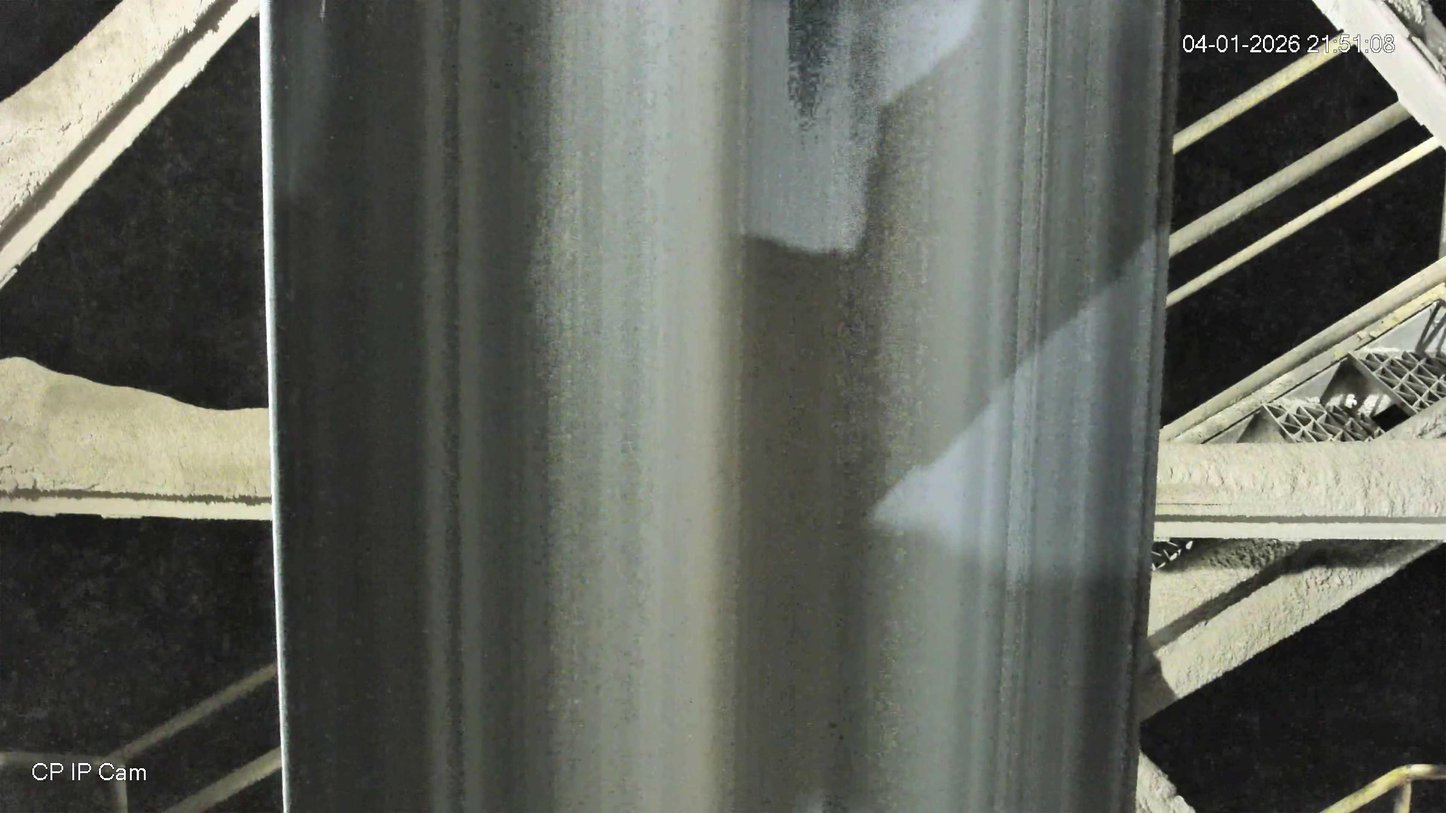belt_roi: (264, 0, 1176, 813)
